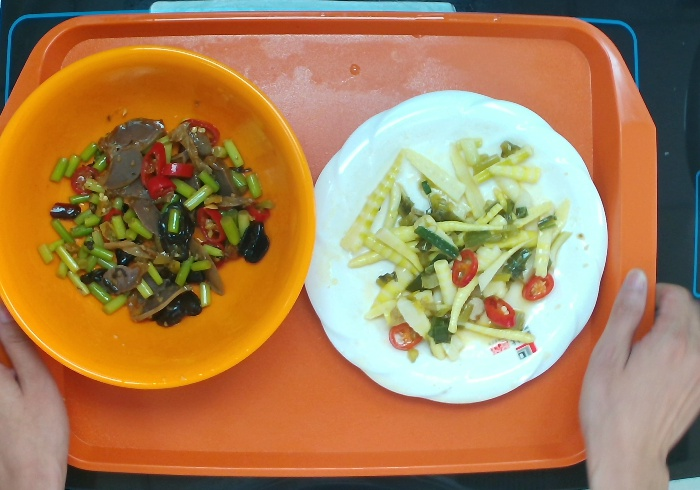ZNLD-Hua_Bian_Wan: (296, 85, 612, 407)
ZNLD-Ju_Se_Tang_Wan: (1, 42, 318, 393)
